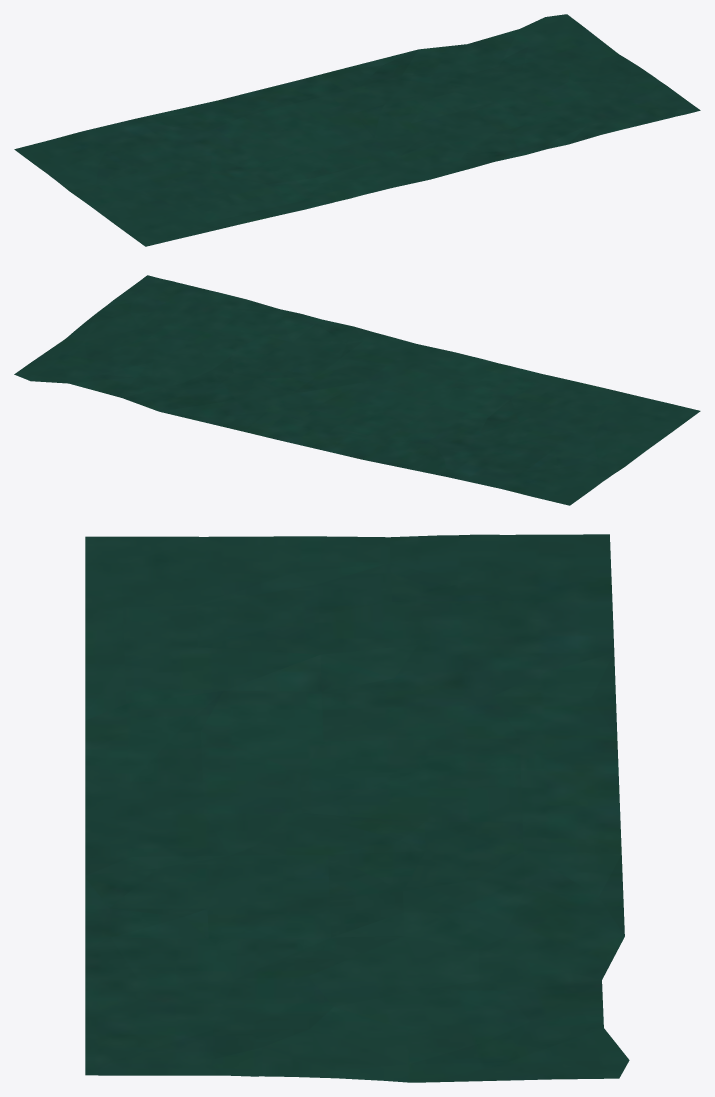
3 views of the same model, one above another, from view 1: azimuth 30°, elevation 25°; view 2: azimuth 150°, elevation 25°; view 3: azimuth 270°, elevation 25° (orthographic). The views are drawn at different scales.
Size of the model in its own units: 52.22 by 0.4273 by 22.24.
1 material, 1 textured.
